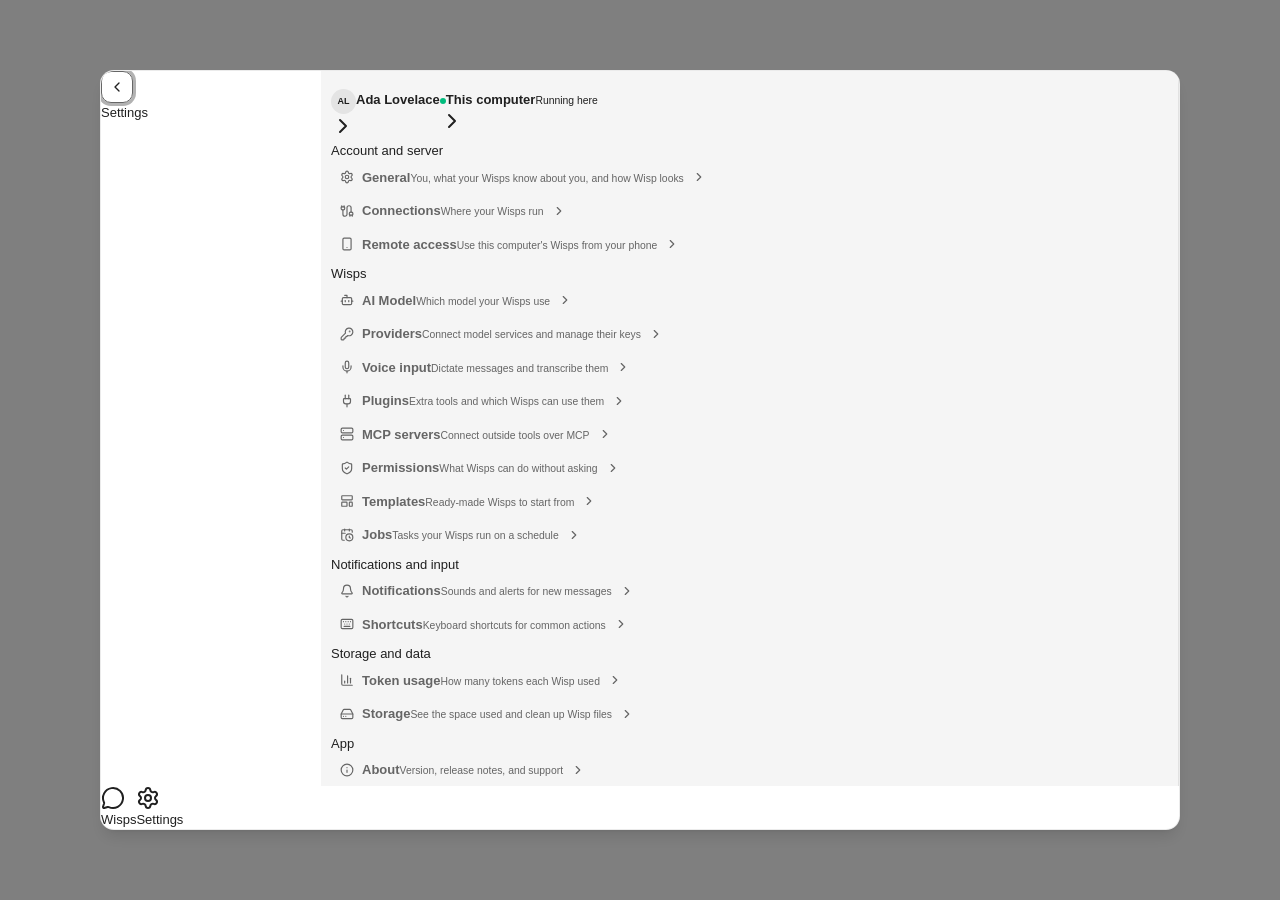
AppSettingsDialog on mobile › shows the profile card and each section as a described card in its group
Expected: the element "Account and server" is shown, [331, 143, 715, 261]
Expected: the element "Notifications and input" is shown, [331, 556, 643, 641]
Click the button "AL Ada Lovelace". click: {"x": 385, "y": 114}
box: [331, 89, 440, 138]
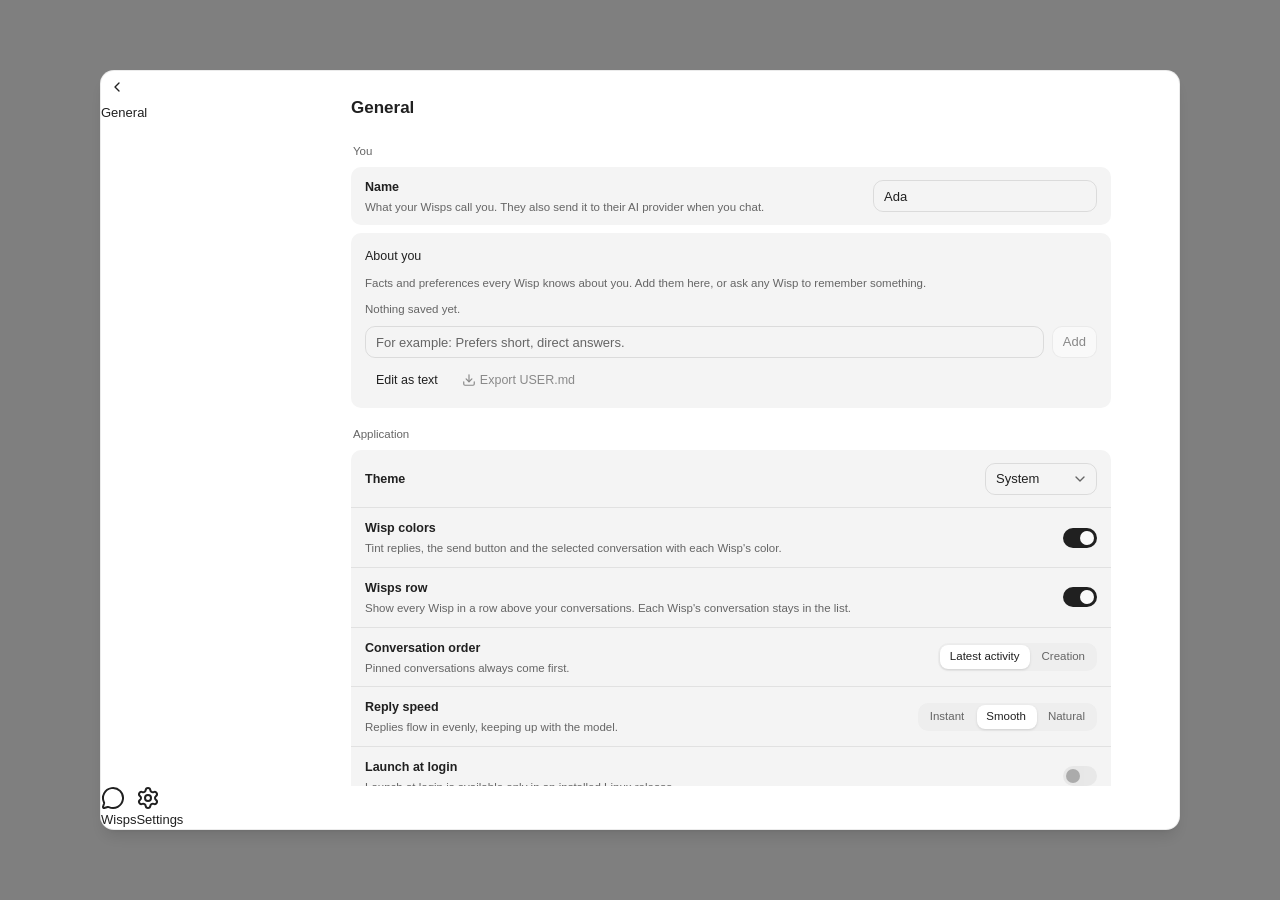
Result: the field labelled "Name" holds "Ada" at [873, 180, 1097, 212]
